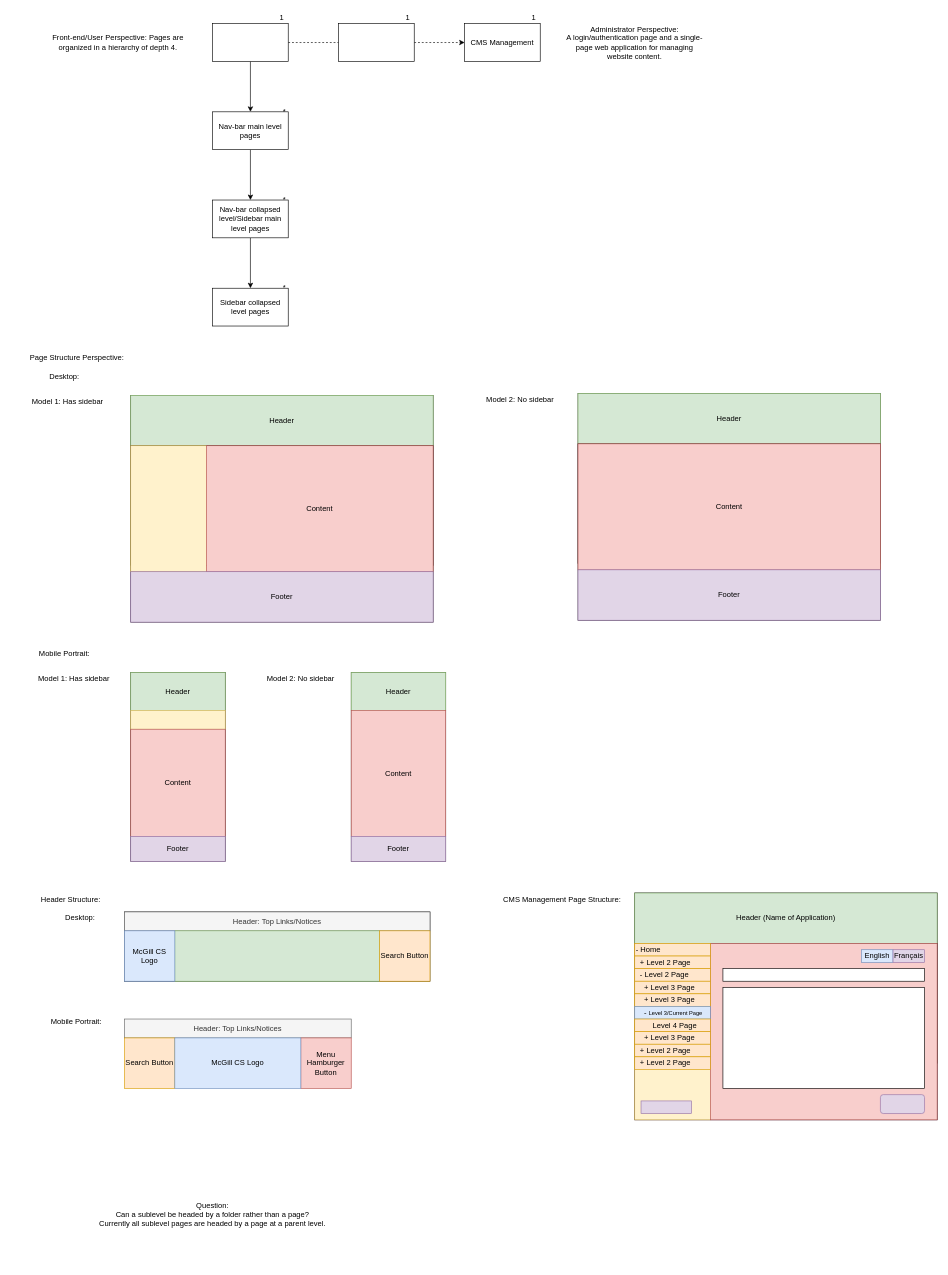
Image size: 948x1275. Some labels were removed from this diagram. Each missing label, with the centre of its shape:
"<div> ... </div> .." belongs at (823,1037).
"Admin Log In" belongs at (376,42).
"Collapsed Sidebar" belongs at (177,719).
"Create Page" belongs at (665,1107).
"Field for editing page name" belongs at (823,974).
"Header: Nav Bar" belongs at (277,955).
"Home" belongs at (250,42).
"Sidebar" belongs at (168,508).
"Update" belongs at (902,1104).
